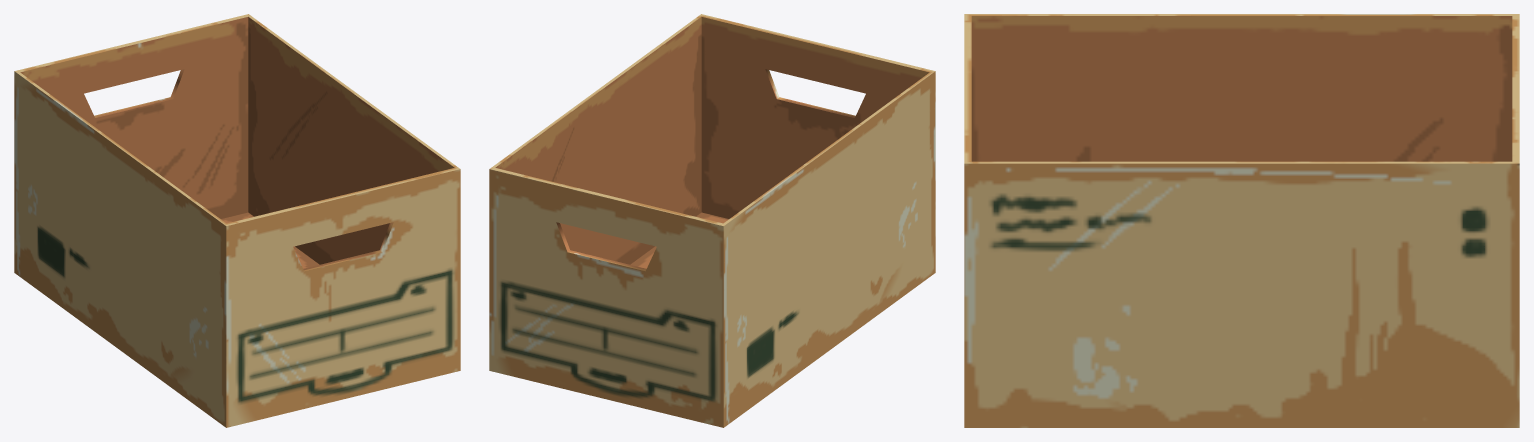
File: Carton_Box_1.glb
3 renders of one model, left to right at view 1: azimuth 30°, elevation 25°; view 2: azimuth 150°, elevation 25°; view 3: azimuth 270°, elevation 25°, orthographic. The views are drawn at different scales.
Visible parts, largest first — view 1: Carton_Box_1; view 2: Carton_Box_1; view 3: Carton_Box_1.
Part boxes in pixels (bbox=[...]): Carton_Box_1: bbox=[14, 14, 460, 427]; Carton_Box_1: bbox=[489, 14, 935, 427]; Carton_Box_1: bbox=[964, 14, 1519, 427].
Size of the model in its own units: 0.3 by 0.2468 by 0.47.
Materials: 1 (1 with a texture image).
